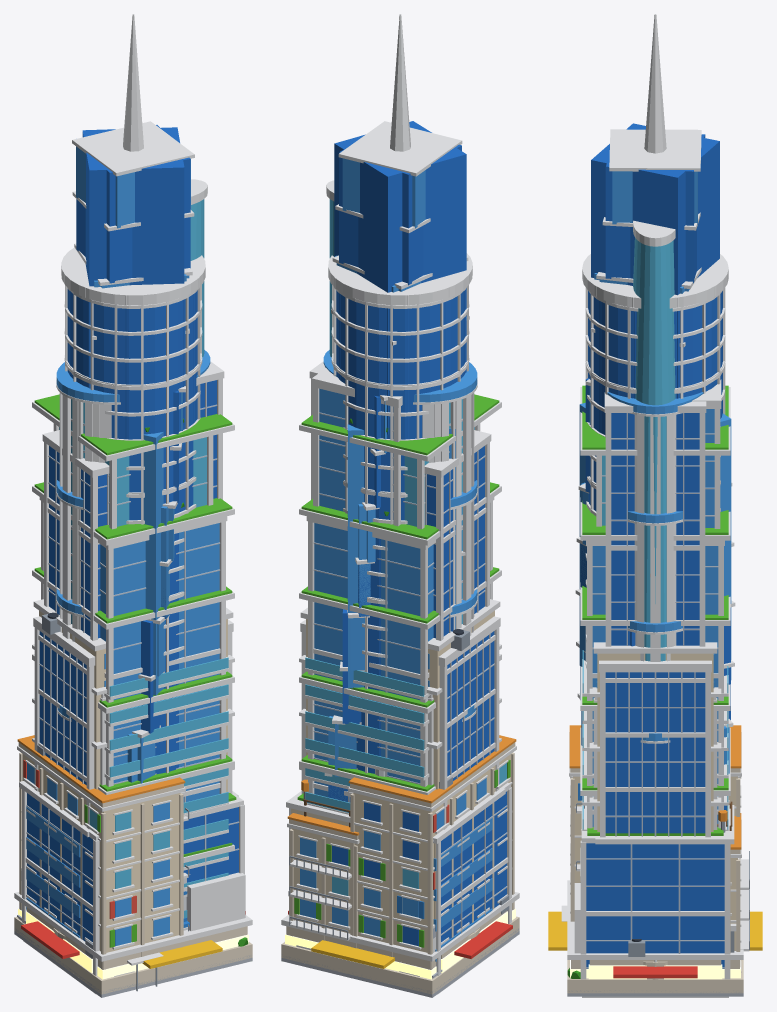
The model's file is cb_series.glb.
3 views of the same model, side by side, from view 1: azimuth 30°, elevation 25°; view 2: azimuth 150°, elevation 25°; view 3: azimuth 270°, elevation 25° (orthographic).
Visible parts, largest first — view 1: bs2_0, bs1_0, bs27_0, bs9_2, bs9_0, bs13_2, bs4_0, bs7_0, bs3_0, bs28_0, bs15_0, bs8_1 (+15 smaller); view 2: bs1_0, bs27_0, bs2_0, bs9_2, bs9_0, bs13_2, bs4_0, bs7_0, bs8_0, bs28_0, bs3_0, bs1_1 (+16 smaller); view 3: bs3_0, bs7_1, bs2_0, bs9_2, bs9_0, bs10_0, bs1_0, bs5_2, bs28_0, bs7_0, bs13_2, bs5_0 (+14 smaller).
Boxes of the visible parts, left/top/right/bottom form: bs2_0: left=61, top=247, right=205, bottom=774; bs1_0: left=15, top=497, right=251, bottom=979; bs27_0: left=17, top=735, right=248, bottom=991; bs9_2: left=82, top=127, right=184, bottom=695; bs9_0: left=72, top=14, right=194, bottom=783; bs13_2: left=21, top=394, right=247, bottom=968; bs4_0: left=34, top=599, right=233, bottom=918; bs7_0: left=26, top=612, right=232, bottom=972; bs3_0: left=22, top=694, right=244, bottom=993; bs28_0: left=53, top=350, right=210, bottom=939; bs15_0: left=14, top=806, right=252, bottom=994; bs8_1: left=22, top=753, right=180, bottom=952; bs1_0: left=282, top=368, right=518, bottom=979; bs27_0: left=287, top=735, right=516, bottom=976; bs2_0: left=328, top=253, right=472, bottom=773; bs9_2: left=334, top=121, right=466, bottom=688; bs9_0: left=324, top=14, right=469, bottom=802; bs13_2: left=286, top=394, right=512, bottom=968; bs4_0: left=300, top=599, right=499, bottom=814; bs7_0: left=301, top=616, right=507, bottom=972; bs8_0: left=292, top=793, right=430, bottom=952; bs28_0: left=323, top=350, right=480, bottom=939; bs3_0: left=289, top=694, right=511, bottom=993; bs1_1: left=281, top=388, right=519, bottom=967; bs3_0: left=580, top=697, right=730, bottom=997; bs7_1: left=588, top=672, right=722, bottom=979; bs2_0: left=582, top=254, right=728, bottom=668; bs9_2: left=579, top=123, right=731, bottom=679; bs9_0: left=575, top=14, right=735, bottom=810; bs10_0: left=633, top=221, right=675, bottom=661; bs1_0: left=548, top=379, right=762, bottom=978; bs5_2: left=604, top=406, right=706, bottom=645; bs28_0: left=607, top=392, right=703, bottom=979; bs7_0: left=588, top=660, right=722, bottom=965; bs13_2: left=571, top=385, right=739, bottom=968; bs5_0: left=604, top=392, right=706, bottom=646.
Bounding box in the file's own units: 1.14 × 5.56 × 1.14.
